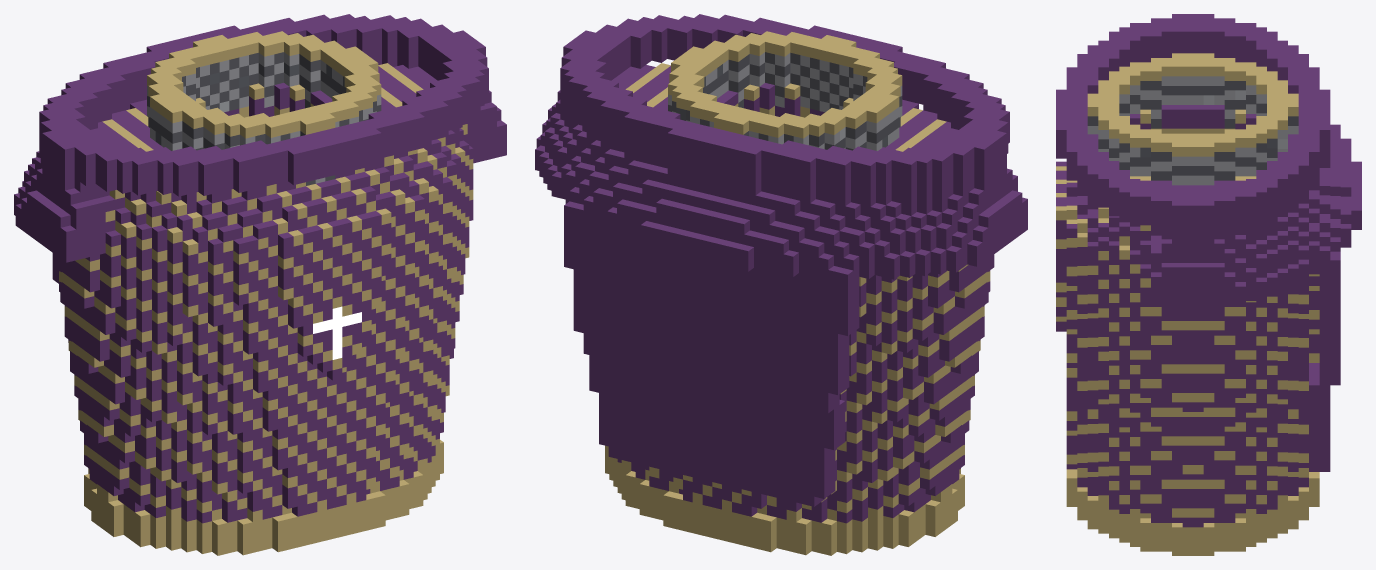
Rendered from chain_legendary_chest.glb.
The picture shows the model from 3 angles, left to right: view 1: azimuth 30°, elevation 25°; view 2: azimuth 150°, elevation 25°; view 3: azimuth 270°, elevation 25°; orthographic projection. The views are drawn at different scales.
Visible parts, largest first — view 1: chain_legendary_chest; view 2: chain_legendary_chest; view 3: chain_legendary_chest.
Part boxes in pixels (box(x1,y1,x2,y2)): chain_legendary_chest: box(14, 14, 506, 555); chain_legendary_chest: box(535, 14, 1027, 555); chain_legendary_chest: box(1056, 14, 1361, 555).
Bounding box in the file's own units: 0.54 × 0.48 × 0.348.
